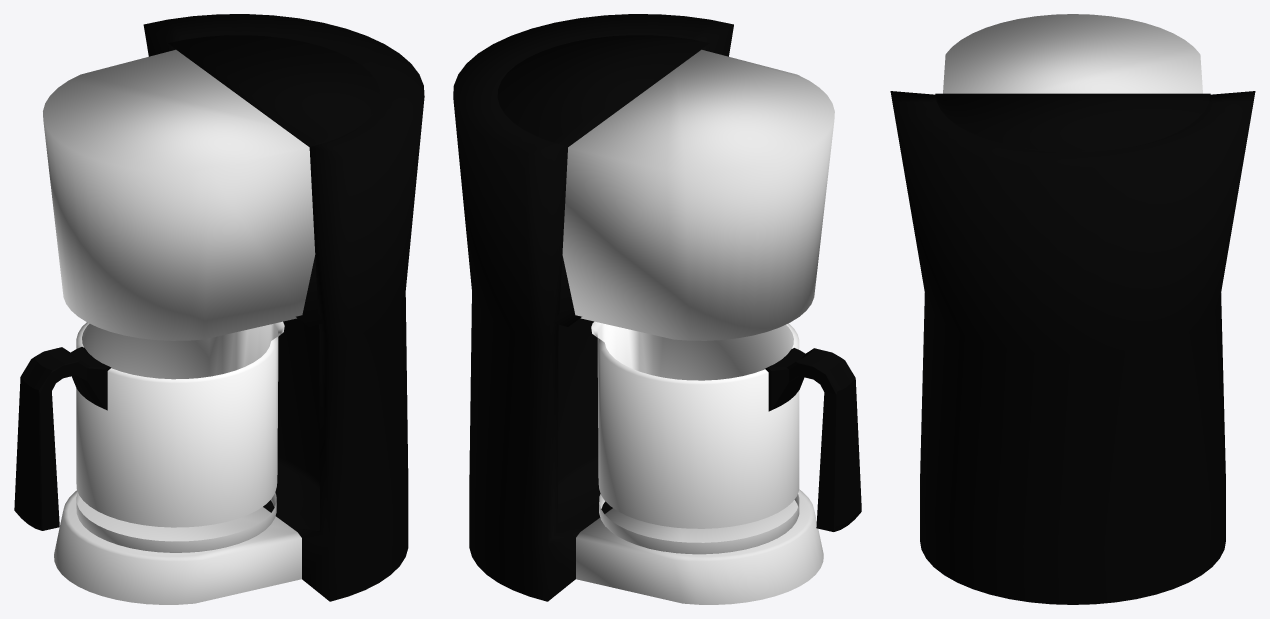
Rendered from kaffemaskinen_medOgUden_Iso_25Anim_GLB.glb.
The picture shows the model from 3 angles, left to right: view 1: azimuth 30°, elevation 25°; view 2: azimuth 150°, elevation 25°; view 3: azimuth 270°, elevation 25°; orthographic projection. The views are drawn at different scales.
Visible parts, largest first — view 1: Mamskine, SoelvTop, Glaskande, Soelbund, Sorthank; view 2: Mamskine, SoelvTop, Glaskande, Soelbund, Sorthank; view 3: Mamskine, SoelvTop.
Part boxes in pixels (x1,y1,x2,y2): Mamskine: (143,14,424,601); SoelvTop: (43,49,315,340); Glaskande: (76,321,284,552); Soelbund: (54,490,301,604); Sorthank: (14,347,111,530); Mamskine: (453,14,733,601); SoelvTop: (562,49,834,340); Glaskande: (591,321,799,554); Soelbund: (576,489,823,604); Sorthank: (765,348,861,531); Mamskine: (890,91,1255,604); SoelvTop: (943,14,1202,93).
Size of the model in its own units: 2.73 by 3.19 by 2.38.
3 materials, 1 textured.
